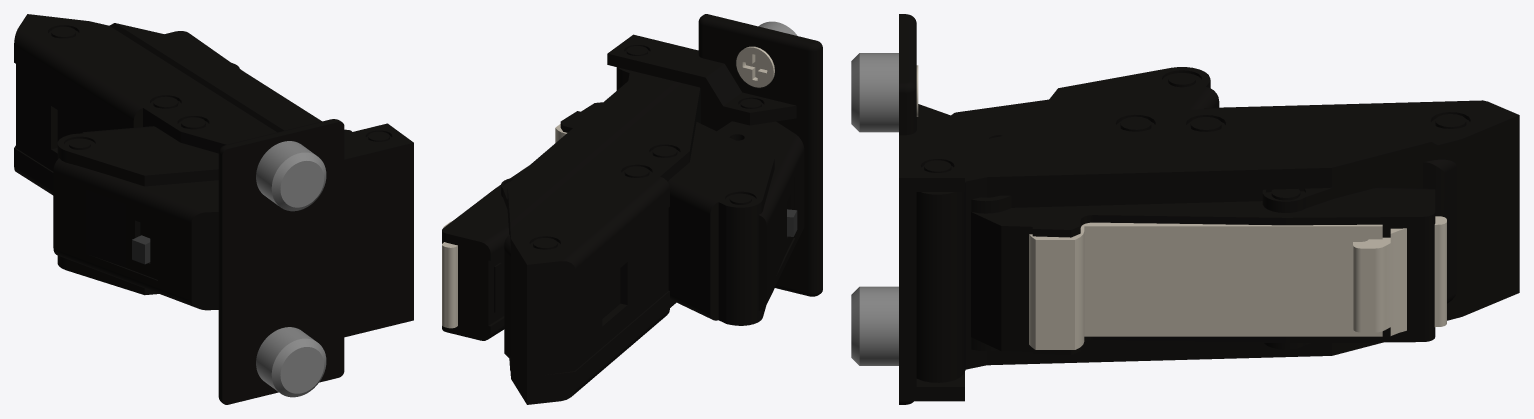
3 views of the same model, side by side, from view 1: azimuth 30°, elevation 25°; view 2: azimuth 150°, elevation 25°; view 3: azimuth 270°, elevation 25° (orthographic). The views are drawn at different scales.
Visible parts, largest first — view 1: bau0085793888-1, bau0082118369-1, bau0082109884-1, bau0082071794-1, bau0059100308-2, bau0059100308-1; view 2: bau0082118369-1, bau0085793888-1, bau0082071794-1, bau0082065270-1, bau0082109884-1, bau0059100308-1, bau0019426112-1, bau0082072085-1; view 3: bau0082118369-1, bau0019426112-1, bau0082065270-1, bau0085793888-1, bau0082071794-1, bau0082072085-1, bau0059100308-1, bau0059100308-2, bau0082109884-1.
Boxes of the visible parts, bbox=[...] form: bau0085793888-1: bbox=[218, 119, 413, 404]; bau0082118369-1: bbox=[14, 14, 321, 195]; bau0082109884-1: bbox=[53, 158, 218, 310]; bau0082071794-1: bbox=[57, 126, 218, 295]; bau0059100308-2: bbox=[256, 327, 326, 397]; bau0059100308-1: bbox=[256, 141, 326, 211]; bau0082118369-1: bbox=[507, 67, 700, 404]; bau0085793888-1: bbox=[607, 14, 822, 296]; bau0082071794-1: bbox=[668, 122, 774, 325]; bau0082065270-1: bbox=[442, 102, 602, 340]; bau0082109884-1: bbox=[717, 121, 804, 310]; bau0059100308-1: bbox=[736, 21, 797, 87]; bau0019426112-1: bbox=[442, 124, 566, 328]; bau0082072085-1: bbox=[501, 177, 514, 359]; bau0082118369-1: bbox=[916, 100, 1519, 382]; bau0019426112-1: bbox=[1029, 216, 1446, 349]; bau0082065270-1: bbox=[971, 187, 1435, 355]; bau0085793888-1: bbox=[899, 14, 964, 404]; bau0082071794-1: bbox=[971, 67, 1219, 351]; bau0082072085-1: bbox=[1262, 159, 1456, 349]; bau0059100308-1: bbox=[851, 53, 918, 132]; bau0059100308-2: bbox=[851, 286, 898, 365]; bau0082109884-1: bbox=[951, 99, 1048, 143].
Bounding box in the file's own units: 46.18 × 44 × 82.9.
